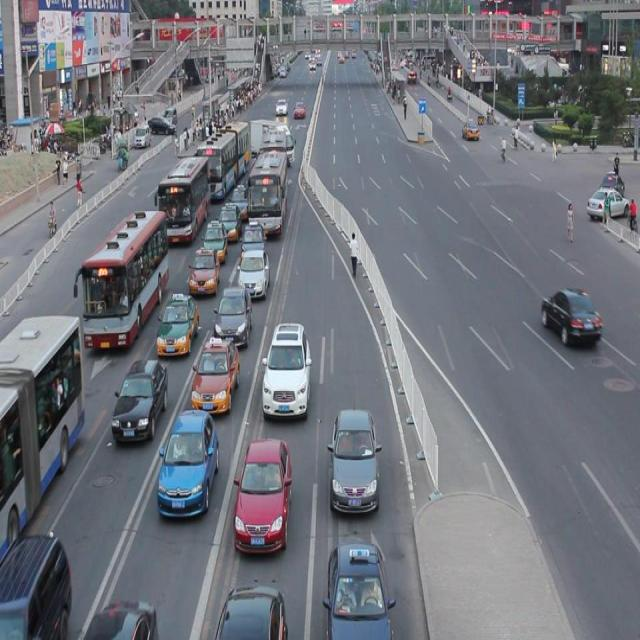bus: (250, 119, 294, 162)
car: (0, 533, 72, 640), (322, 543, 393, 640), (232, 436, 290, 550), (158, 410, 218, 516), (328, 407, 381, 513), (261, 321, 312, 417), (111, 357, 168, 441), (216, 583, 287, 640), (192, 337, 240, 416), (539, 286, 600, 344), (156, 292, 199, 356), (212, 284, 252, 348), (87, 604, 158, 640), (238, 248, 270, 296), (188, 245, 218, 293), (586, 185, 629, 218), (238, 218, 266, 262), (202, 219, 228, 261), (218, 202, 241, 240), (228, 182, 250, 221), (462, 118, 478, 140)
van: (0, 316, 84, 547), (73, 208, 166, 349), (155, 160, 212, 242), (196, 119, 251, 200), (246, 148, 286, 238), (260, 130, 288, 182)
